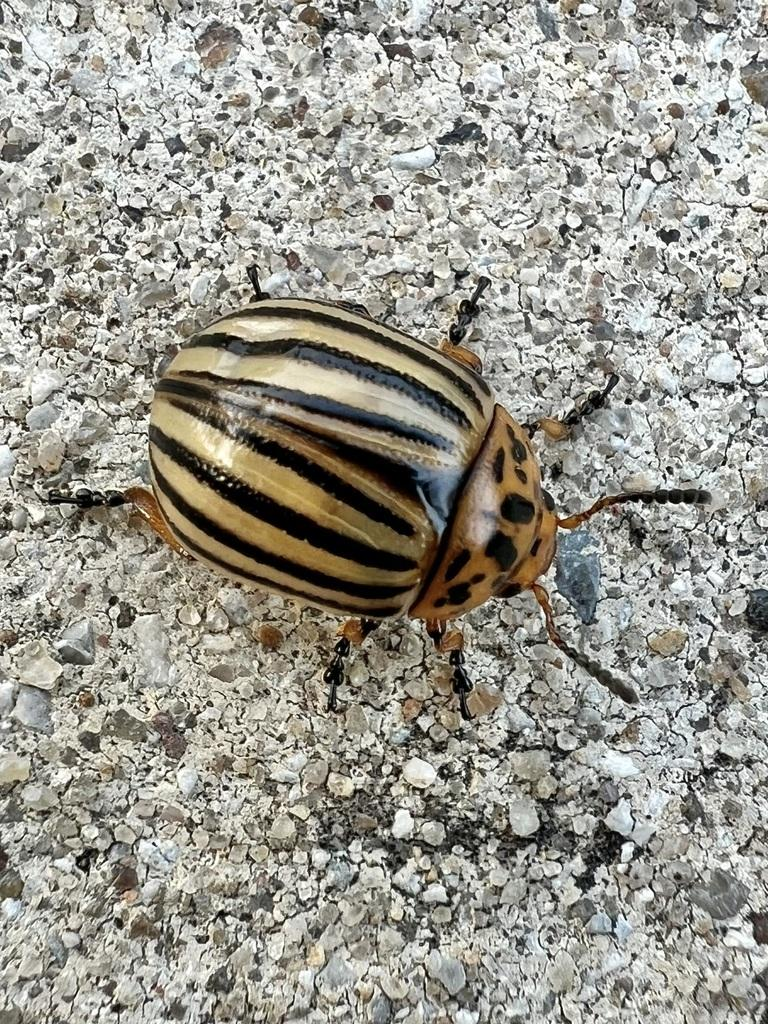potato_beetle: (0, 190, 768, 790)
